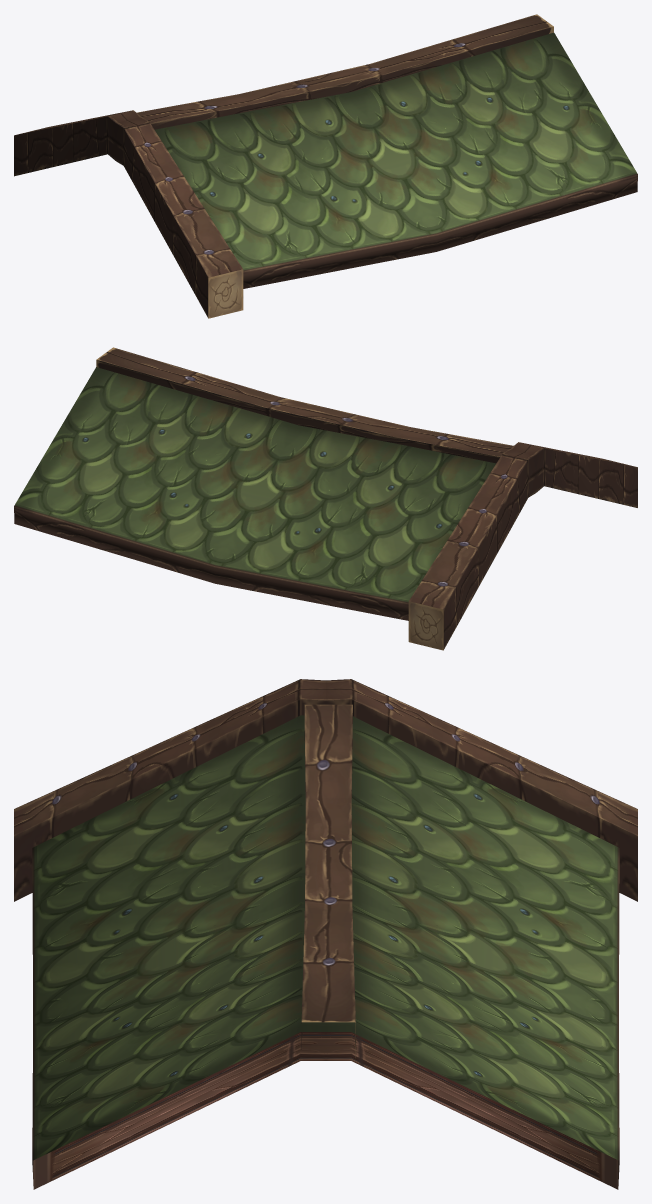
The model's file is big_roof_03.fbx.
The picture shows the model from 3 angles, top to bottom: view 1: azimuth 30°, elevation 25°; view 2: azimuth 150°, elevation 25°; view 3: azimuth 270°, elevation 25°; orthographic projection. The views are drawn at different scales.
Visible parts, largest first — view 1: big_roof_03; view 2: big_roof_03; view 3: big_roof_03.
Part boxes in pixels (x1,y1,x2,y2): big_roof_03: (14, 14, 637, 318); big_roof_03: (14, 347, 637, 650); big_roof_03: (14, 679, 637, 1189).
Bounding box in the file's own units: 11.82 × 3.22 × 9.15.
